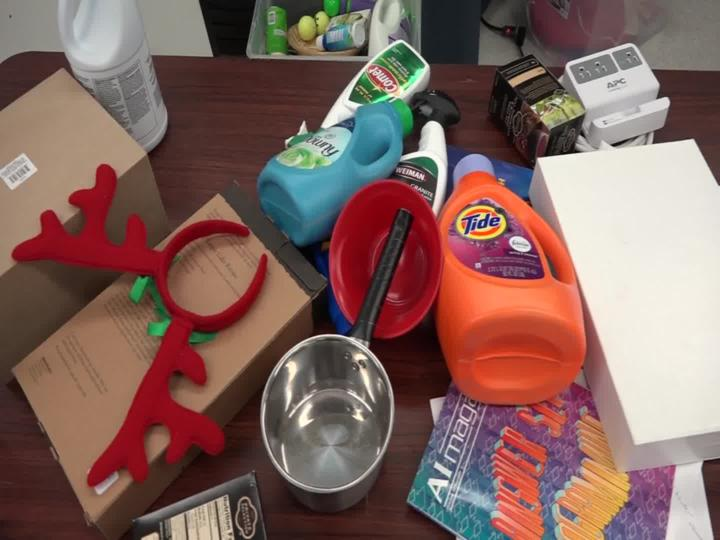tide: (410, 131, 602, 412)
